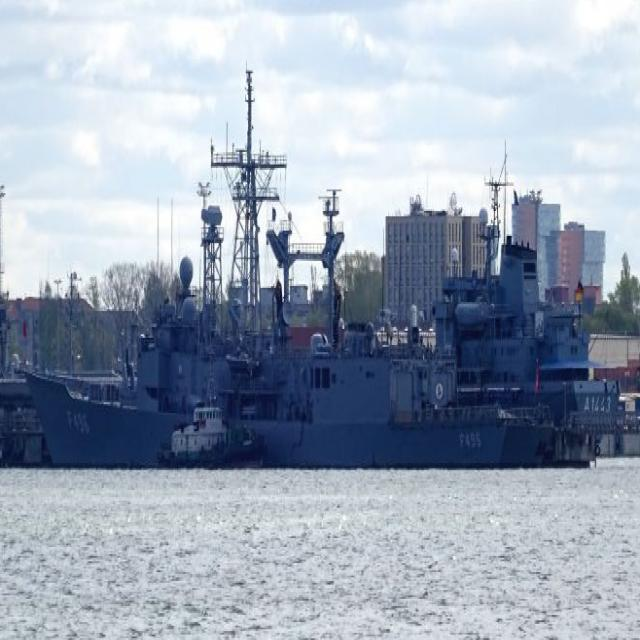Fragata: (14, 80, 515, 473)
